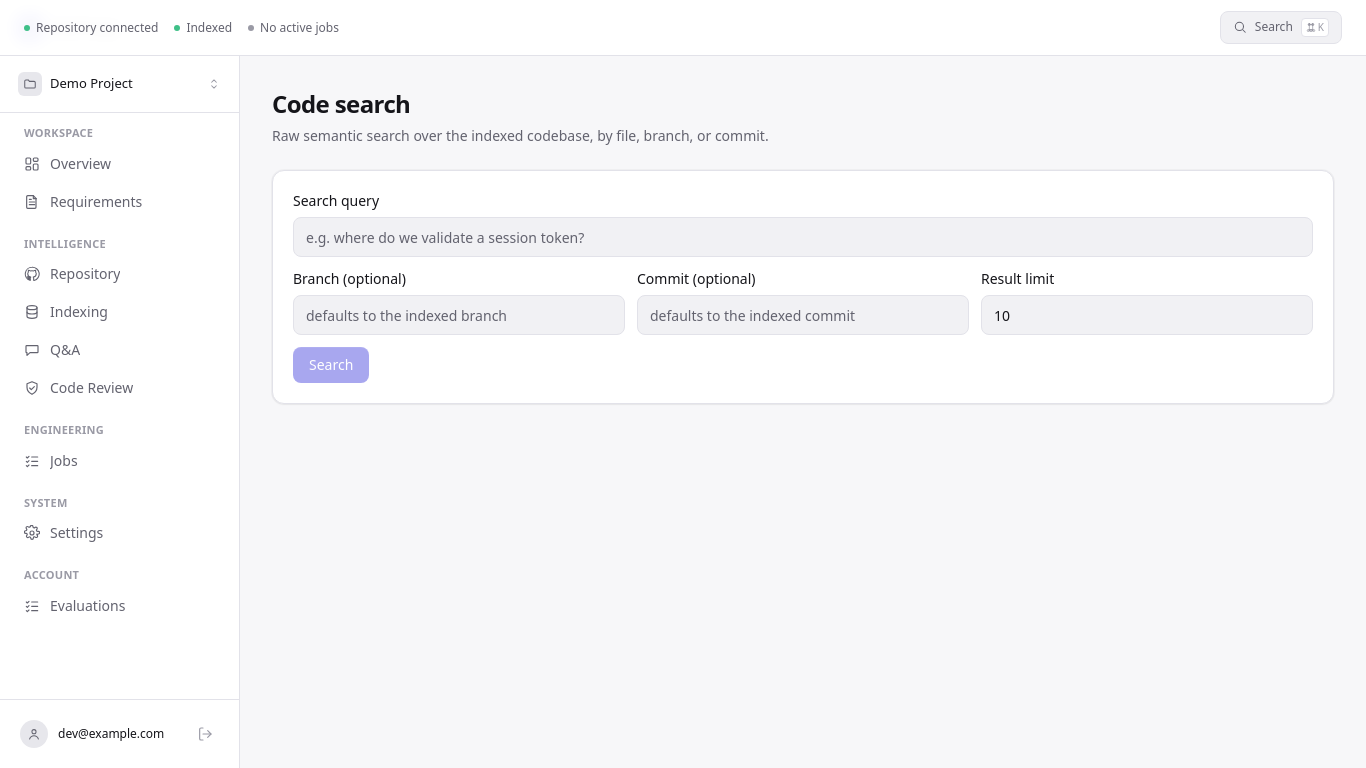
CodeSearch — ready state › shows results with file, symbol, location, and score
The width and height of the screenshot is (1366, 768).
Type "add two numbers" into the field labelled "Search query" at (803,237), box x1=293 y1=217 x2=1313 y2=257
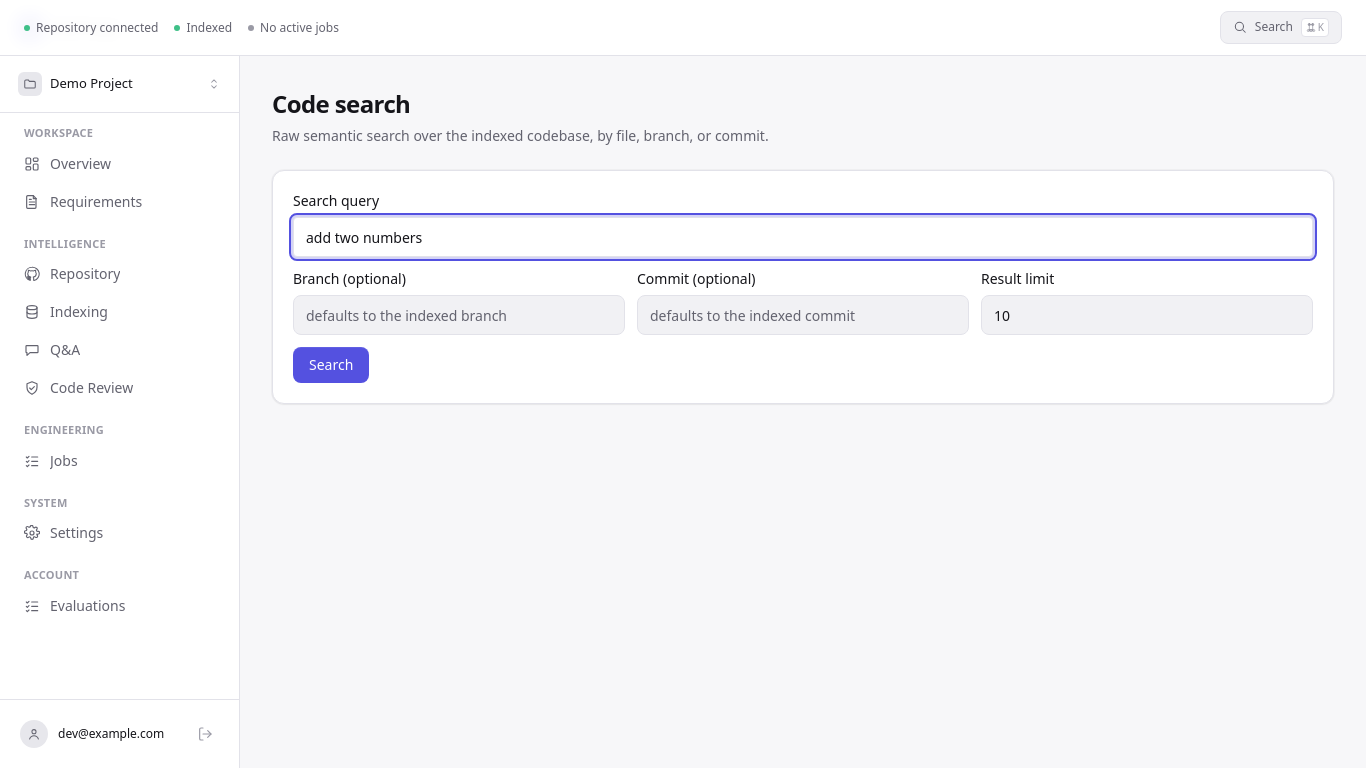
Click the button "Search" at (331,365), box x1=293 y1=347 x2=369 y2=383
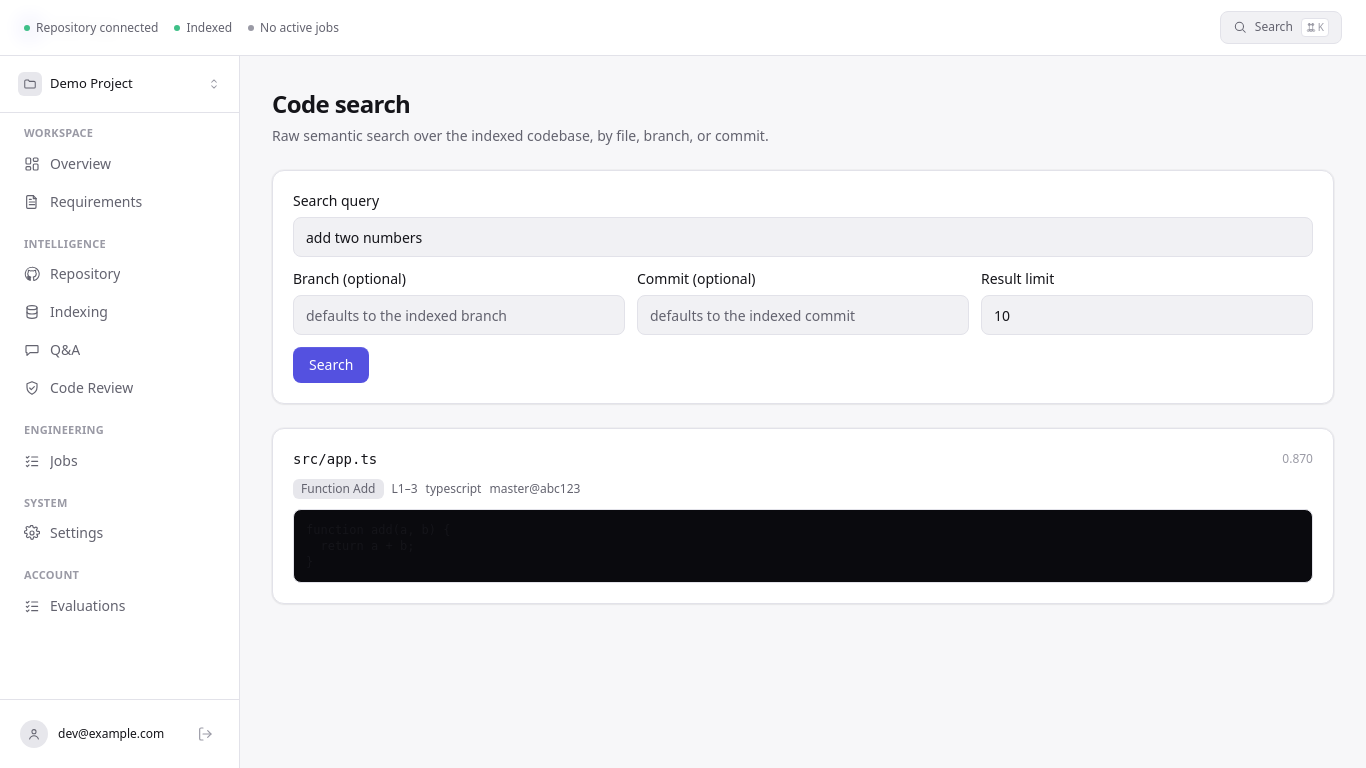
Expected: the text "src/app.ts" is shown, x1=293 y1=449 x2=377 y2=469
Expected: the text "function add" is shown, x1=293 y1=479 x2=384 y2=499
Expected: the text "L1–3" is shown, x1=392 y1=481 x2=418 y2=497
